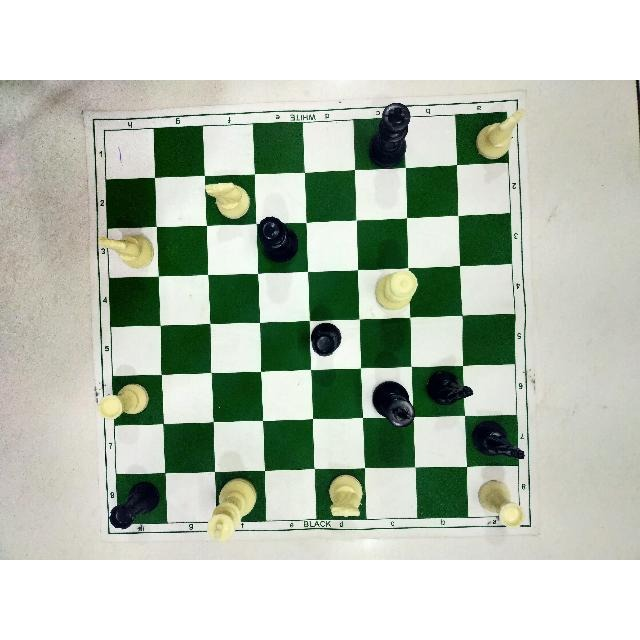black-king: (366, 103, 411, 169), (369, 380, 416, 430)
black-knight: (470, 419, 527, 464), (425, 367, 475, 409)
black-queen: (256, 215, 300, 264)
black-rook: (105, 480, 160, 532), (307, 320, 343, 360)
white-king: (205, 473, 261, 544)
white-knight: (95, 224, 157, 271), (474, 104, 524, 161), (322, 470, 368, 521), (202, 178, 252, 221)
white-queen: (373, 267, 420, 312)
white-rook: (476, 476, 528, 531), (97, 382, 152, 422)
